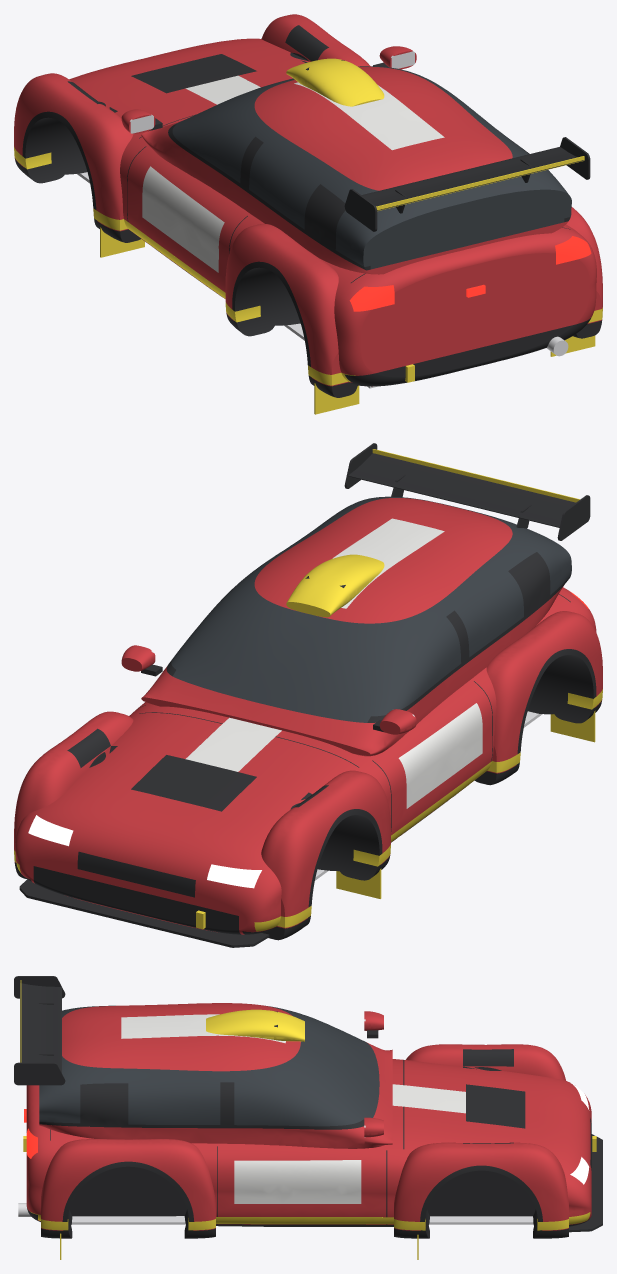
File: body.glb
The picture shows the model from 3 angles, top to bottom: view 1: azimuth 30°, elevation 25°; view 2: azimuth 150°, elevation 25°; view 3: azimuth 270°, elevation 25°; orthographic projection. The views are drawn at different scales.
Visible parts, largest first — view 1: Livery, Carbon, Glass, Accent, LiveryWhite, Light, Metal; view 2: Livery, Carbon, Glass, LiveryWhite, Accent, Headlight; view 3: Livery, Carbon, Glass, LiveryWhite, Accent, Metal, Headlight.
Boxes of the visible parts, <box> form: Livery: <box>14,14,602,386</box>; Carbon: <box>14,25,602,397</box>; Glass: <box>172,66,571,269</box>; Accent: <box>14,58,602,414</box>; LiveryWhite: <box>142,75,444,272</box>; Light: <box>349,236,591,311</box>; Metal: <box>77,51,568,388</box>; Livery: <box>14,498,602,934</box>; Carbon: <box>14,443,601,947</box>; Glass: <box>171,496,571,722</box>; LiveryWhite: <box>185,518,482,808</box>; Accent: <box>14,449,602,931</box>; Headlight: <box>28,815,261,888</box>; Livery: <box>26,1003,591,1230</box>; Carbon: <box>14,976,602,1238</box>; Glass: <box>39,1005,379,1126</box>; LiveryWhite: <box>121,1014,465,1203</box>; Accent: <box>20,980,596,1259</box>; Metal: <box>18,1019,533,1224</box>; Headlight: <box>570,1083,589,1184</box>.
Bounding box in the file's own units: 1.96 × 1.46 × 4.17.
